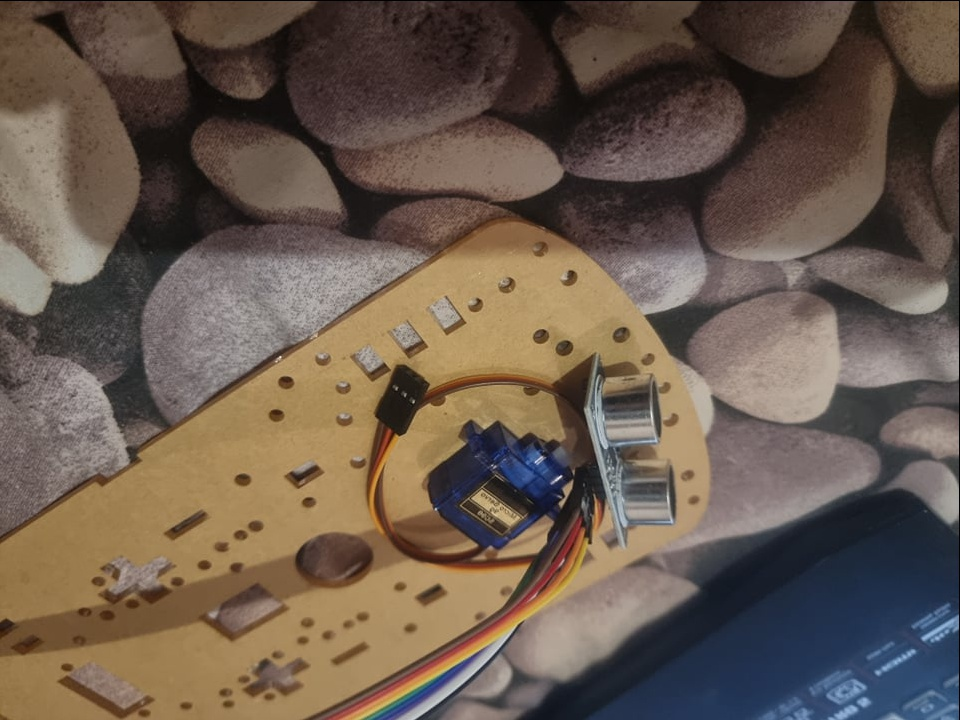SENSOR: (593, 357, 680, 549)
